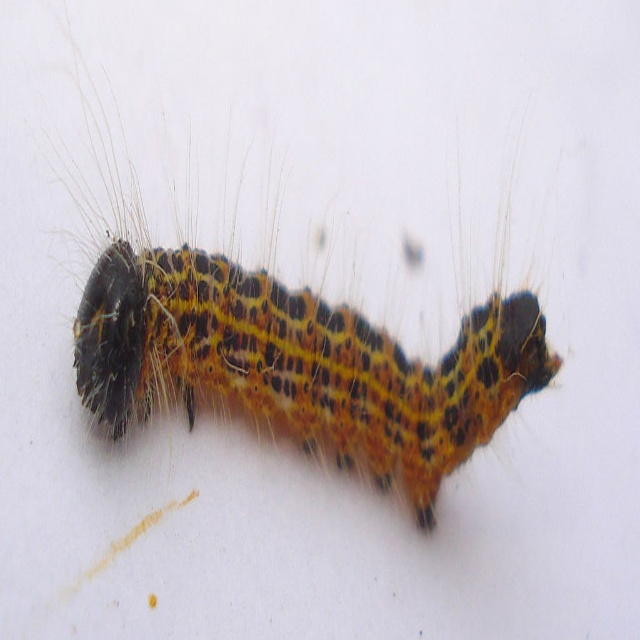Caterpillar: (26, 1, 569, 536)
